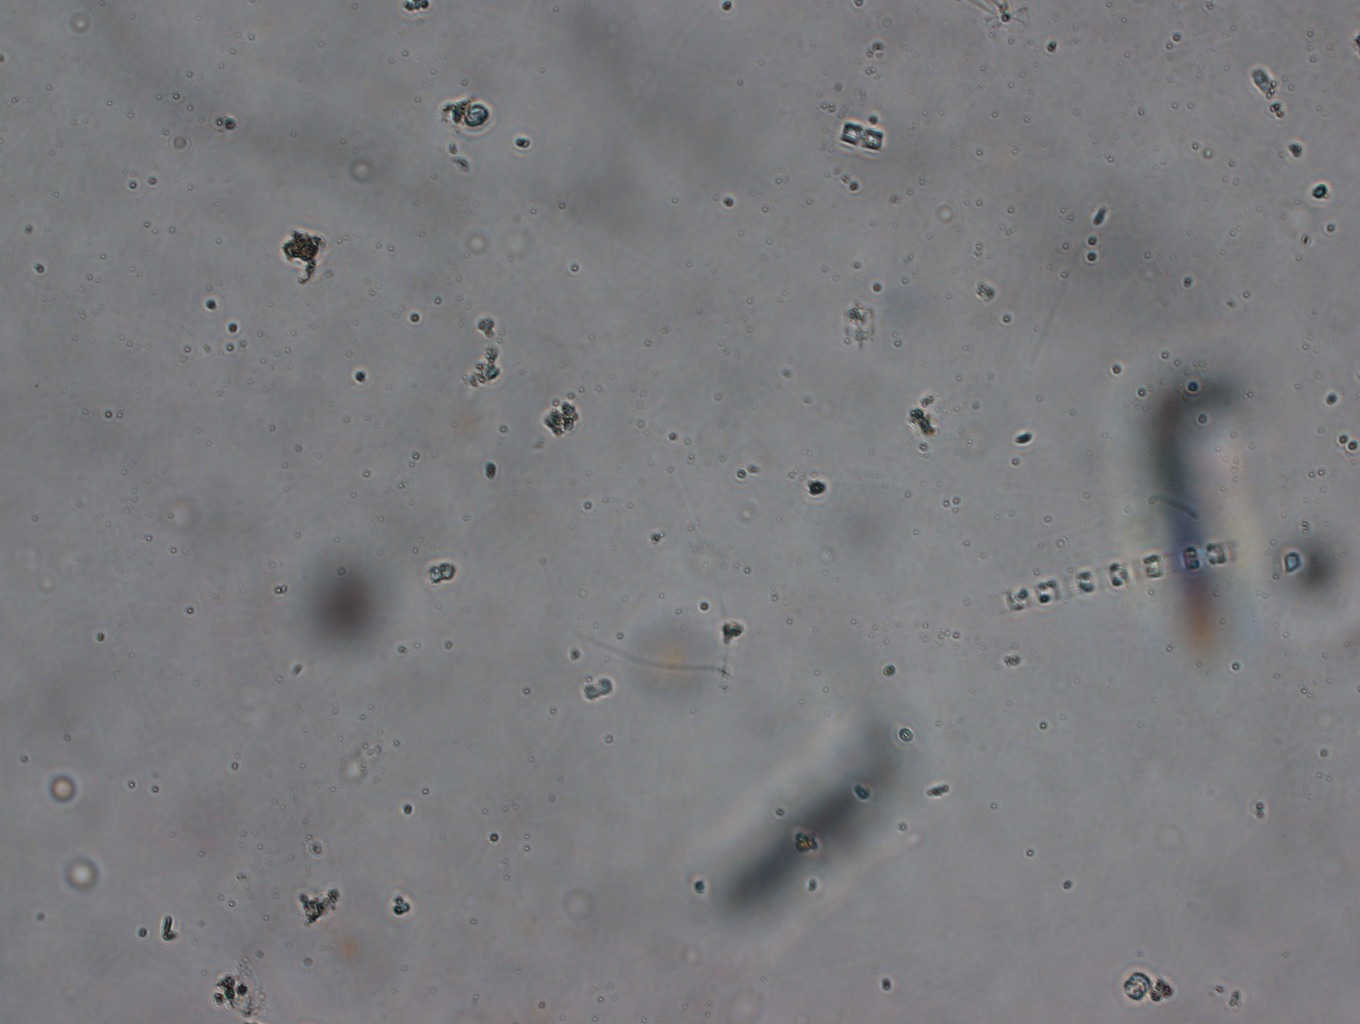skeletonema: (968, 521, 1252, 623)
